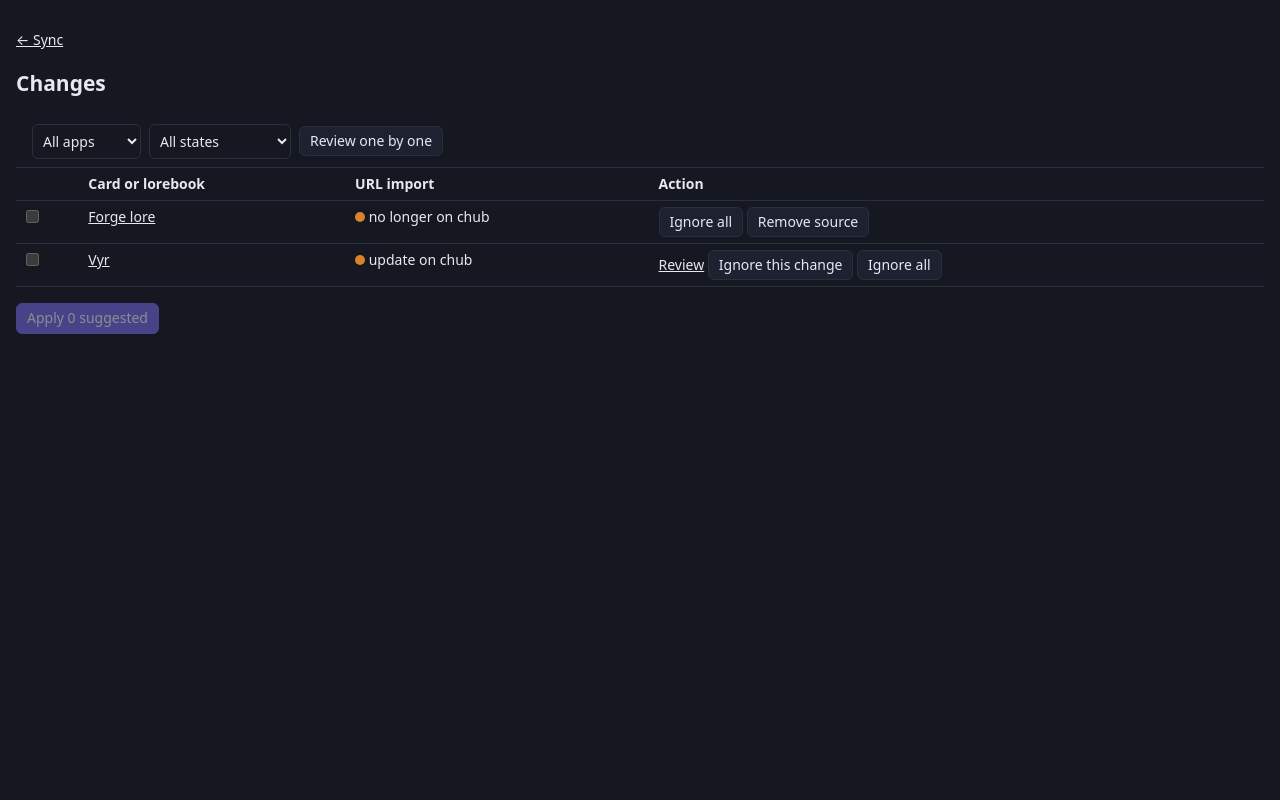
Scenario: ignoring a change the site has changed again reloads the queue and says so
The image size is (1280, 800).
Click the button "Ignore this change".
click(781, 265)  # box [708,250,853,280]
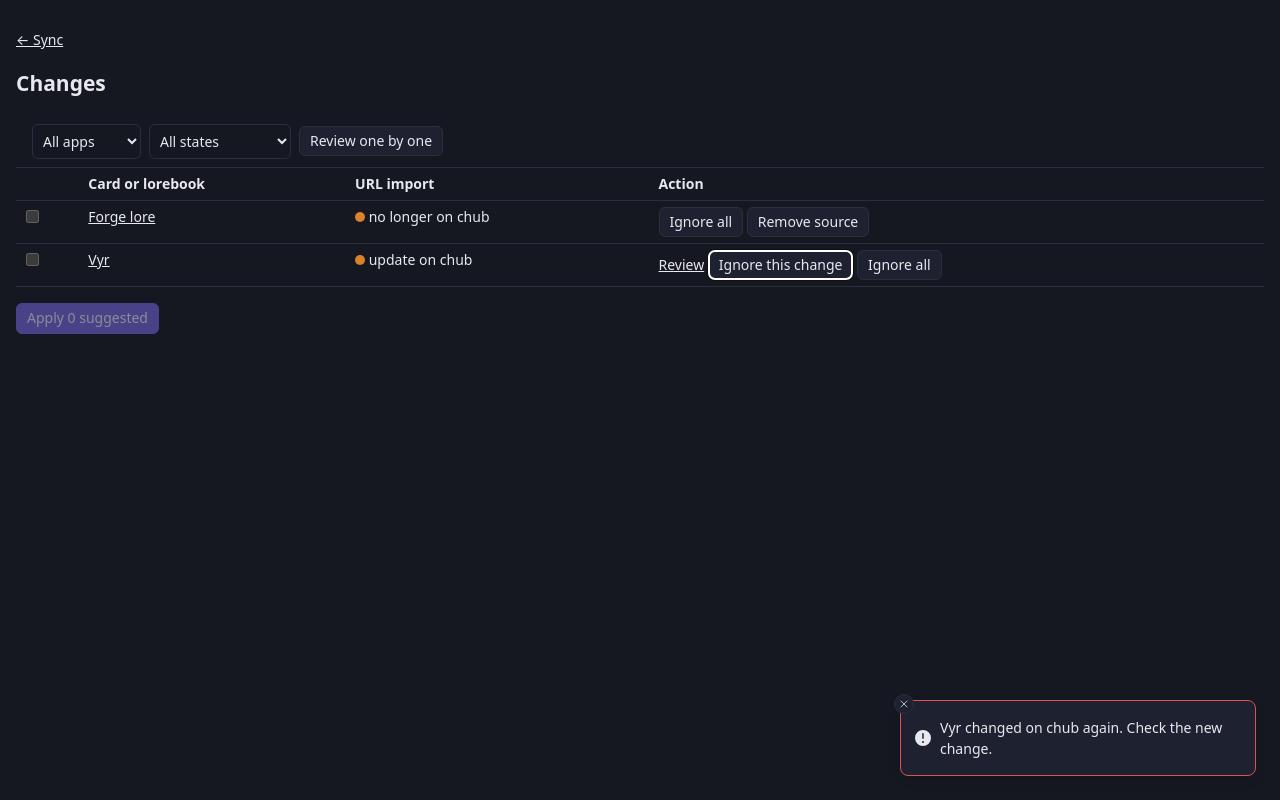
Expected: the text "Vyr changed on chub again. Check the new change." is shown, [940,717,1239,759]
